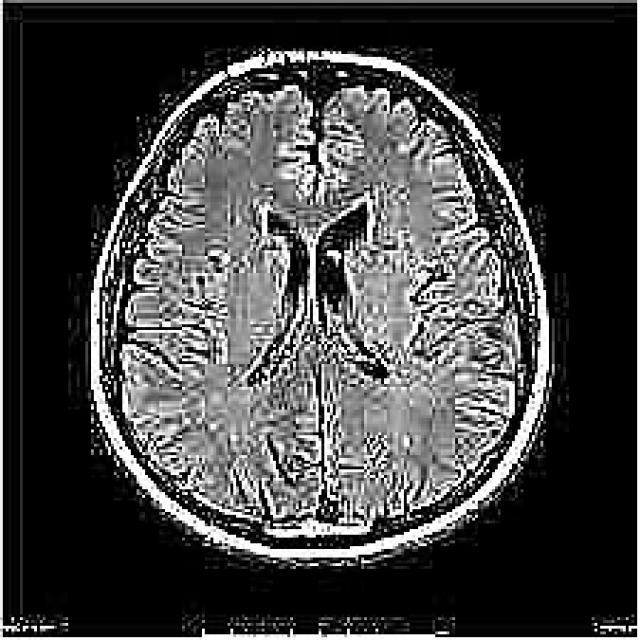notumor: (91, 51, 549, 569)
